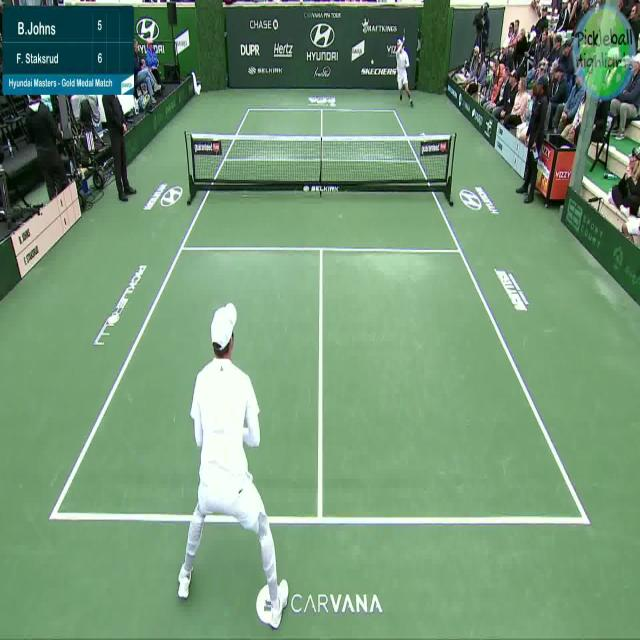ball: (370, 59, 374, 66)
